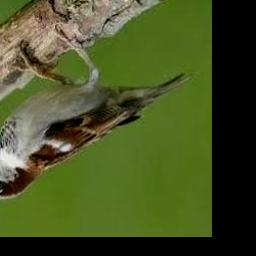Sparrow: (0, 27, 196, 200)
